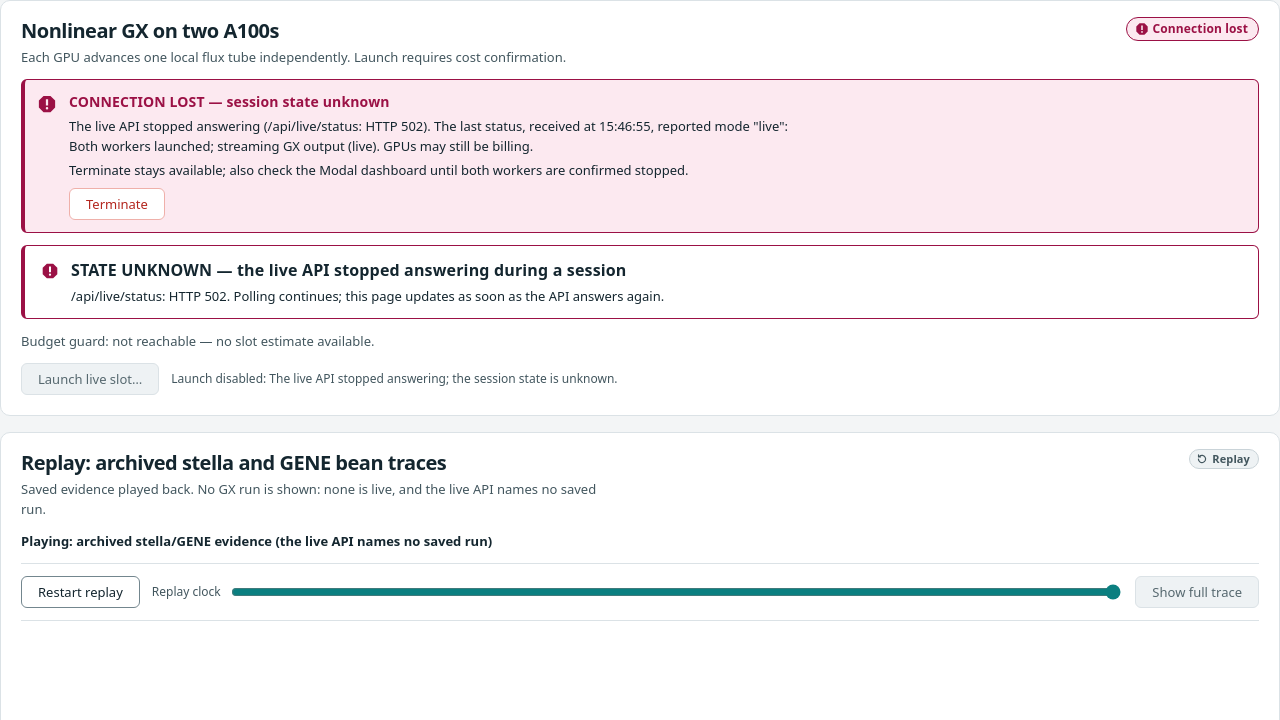
Test case: L9 a live session that stops answering reads "connection lost — session state unknown", keeps Terminate enabled and drops LIVE
Later steps or results of the test are not shown.
Expected: the button "Launch live slot…" is disabled, [21,363,159,395]
Expected: the text "Launch disabled:" shows "session state is unknown", [269,370,618,387]
Note: Terminate can still be sent, and its confirmed answer is shown.
What coordinates should you click on to do the following:
click the button "Terminate"
I would click on:
 (117, 204)
Its box is [69,188,165,220].
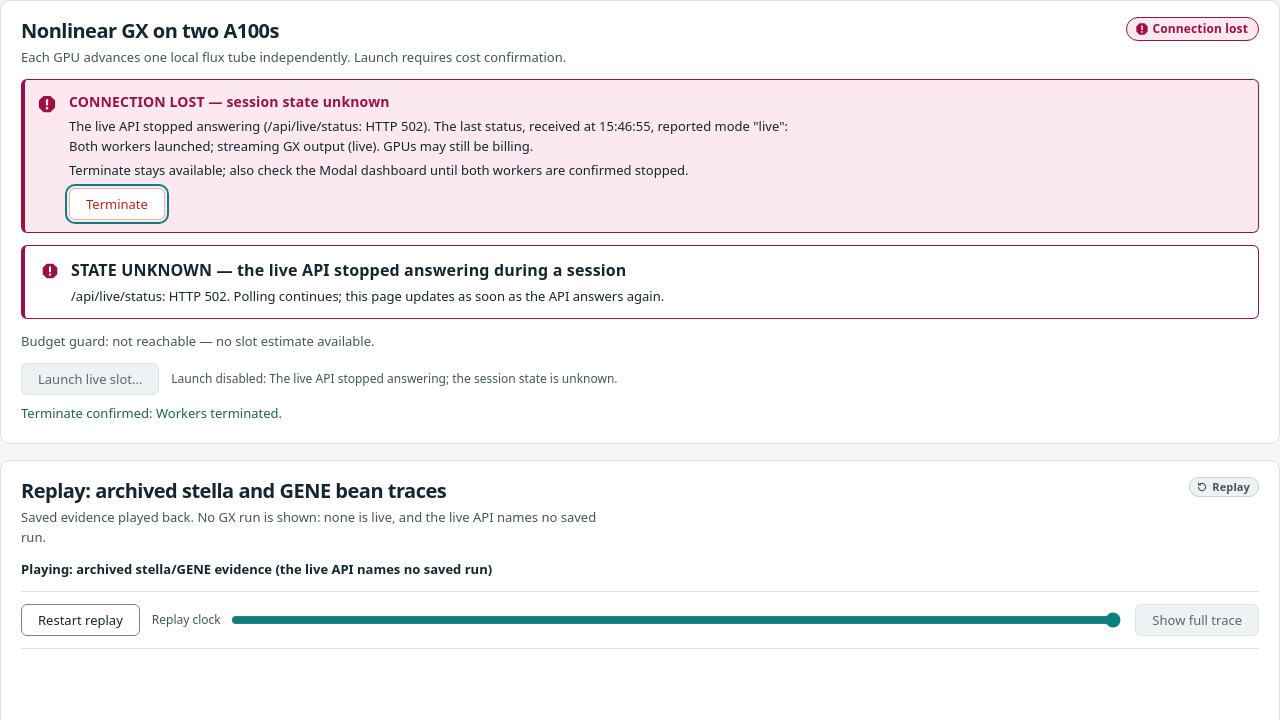
Now the text "Terminate confirmed: Workers terminated." is shown, box [21,404,282,422]
